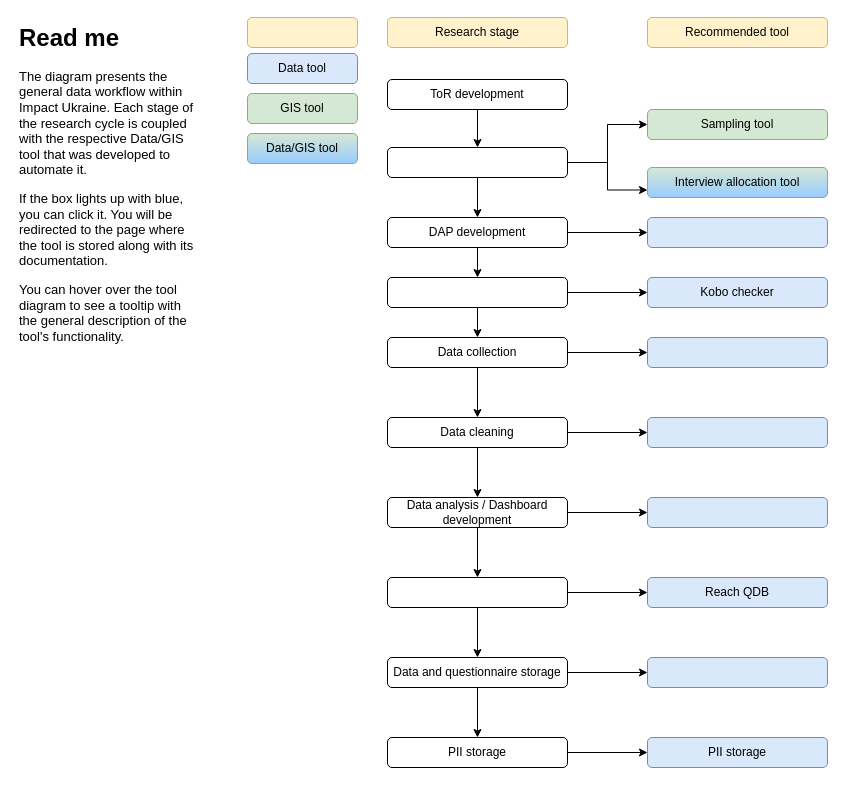
This 845x785 diagram has some shape labels left out. The centre of each missing label's shape, as x and y in pixels:
Cleaning template: (x=737, y=432)
DAP to Kobo transformer: (x=737, y=232)
Data uploader: (x=737, y=672)
Development of the sampling frame: (x=477, y=162)
Kobo development: (x=477, y=292)
Questionnaire matching: (x=477, y=592)
Tabular analysis V4: (x=737, y=512)
Types of tools: (x=302, y=32)
Universal data collection tracker: (x=737, y=352)
